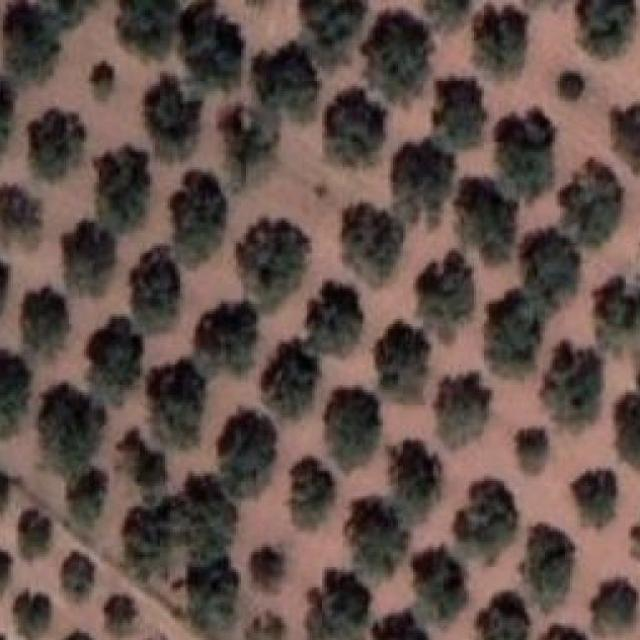Tree: (6, 0, 98, 83), (236, 218, 310, 311), (362, 10, 434, 101), (38, 383, 106, 477), (558, 160, 624, 247), (391, 140, 456, 228), (170, 170, 229, 264), (454, 178, 518, 264), (180, 0, 242, 88), (540, 339, 604, 424), (415, 251, 474, 343), (454, 479, 518, 563), (494, 110, 555, 198), (219, 410, 278, 498), (94, 145, 153, 232), (145, 74, 203, 162), (147, 360, 205, 448), (254, 43, 321, 119), (342, 202, 404, 284), (345, 499, 410, 577), (87, 317, 144, 403), (486, 288, 544, 372), (261, 336, 320, 417), (327, 89, 388, 167), (306, 569, 372, 640), (325, 388, 382, 469), (221, 105, 274, 192), (196, 302, 260, 373), (520, 226, 580, 301), (376, 321, 431, 402), (300, 0, 366, 67), (434, 373, 492, 449), (188, 474, 239, 560), (525, 524, 576, 608), (188, 555, 242, 634), (28, 110, 87, 182), (130, 246, 180, 330), (413, 547, 469, 621), (391, 441, 442, 522), (62, 220, 116, 296), (307, 282, 363, 354), (123, 496, 171, 580), (474, 5, 530, 77), (592, 276, 640, 350), (20, 286, 69, 356), (436, 78, 483, 148), (120, 0, 177, 57), (580, 0, 636, 58), (290, 456, 335, 528), (118, 427, 168, 488), (590, 579, 639, 635), (573, 469, 619, 527), (0, 184, 41, 249), (0, 349, 30, 435), (615, 367, 640, 468), (67, 468, 108, 528), (476, 592, 525, 640), (13, 589, 52, 640), (372, 609, 431, 640), (18, 508, 53, 559), (613, 106, 640, 172), (62, 552, 96, 600), (251, 547, 287, 592), (514, 429, 549, 474), (107, 595, 141, 637), (425, 0, 470, 26), (246, 612, 286, 640), (89, 61, 115, 99), (557, 71, 585, 99), (540, 625, 590, 640), (0, 76, 17, 118), (0, 550, 11, 596), (59, 631, 95, 640)
